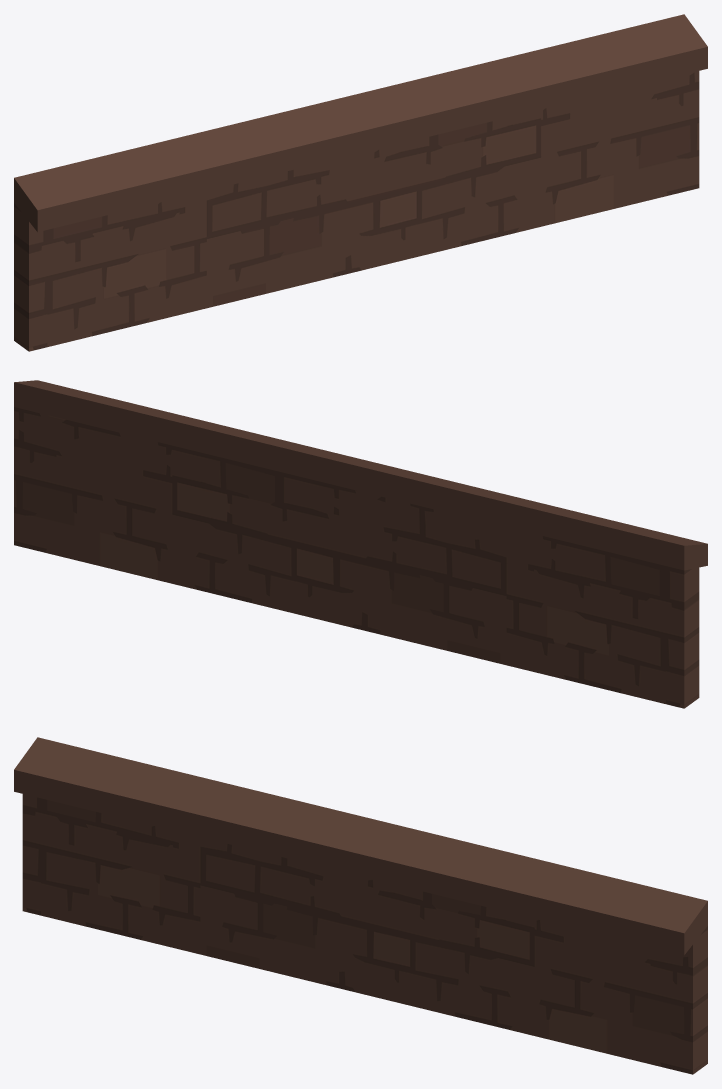
Rendered from SM_Bld_Trim_Wall_Low_02.obj.
The picture shows the model from 3 angles, top to bottom: view 1: azimuth 30°, elevation 25°; view 2: azimuth 150°, elevation 25°; view 3: azimuth 330°, elevation 25°; orthographic projection.
Visible parts, largest first — view 1: SM_Bld_Trim_Wall_Low_02_0; view 2: SM_Bld_Trim_Wall_Low_02_0; view 3: SM_Bld_Trim_Wall_Low_02_0.
Boxes of the visible parts, left/top/right/bottom form: SM_Bld_Trim_Wall_Low_02_0: left=14, top=14, right=707, bottom=351; SM_Bld_Trim_Wall_Low_02_0: left=14, top=380, right=707, bottom=708; SM_Bld_Trim_Wall_Low_02_0: left=14, top=737, right=707, bottom=1074.
Size of the model in its own units: 2.5 by 0.5807 by 0.1523.
1 material, 1 textured.
